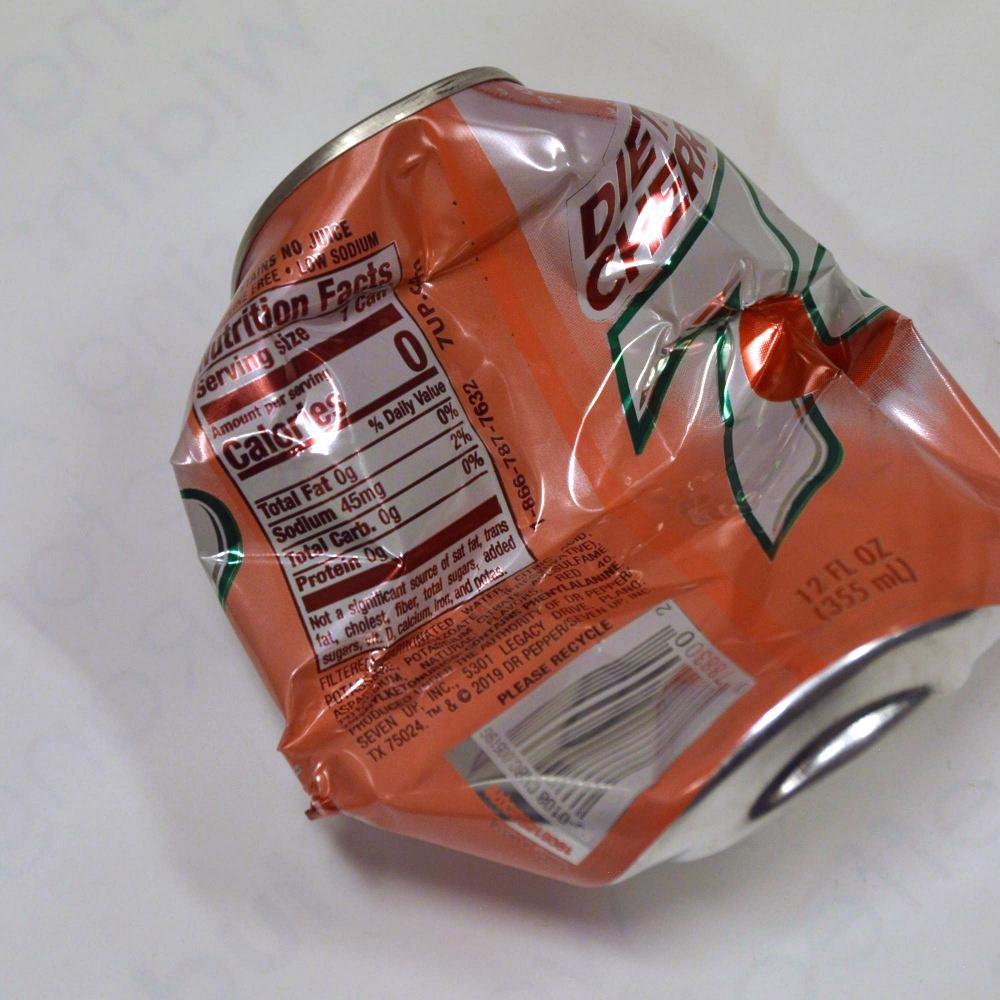Metal: (138, 73, 983, 858)
